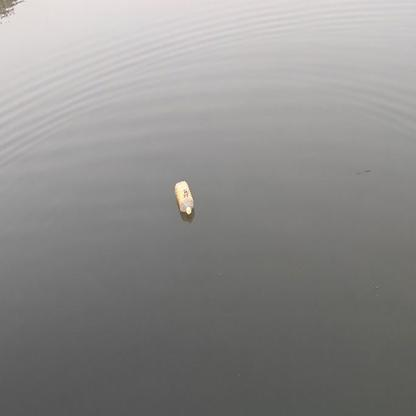plastic bottle: (174, 181, 195, 216)
